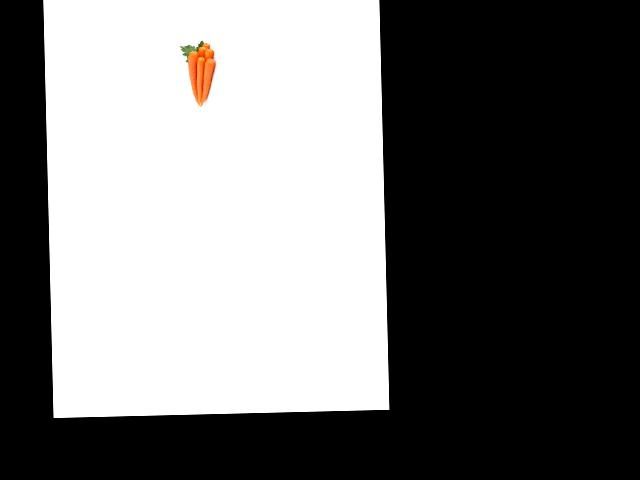carrot: (201, 40, 210, 49)
